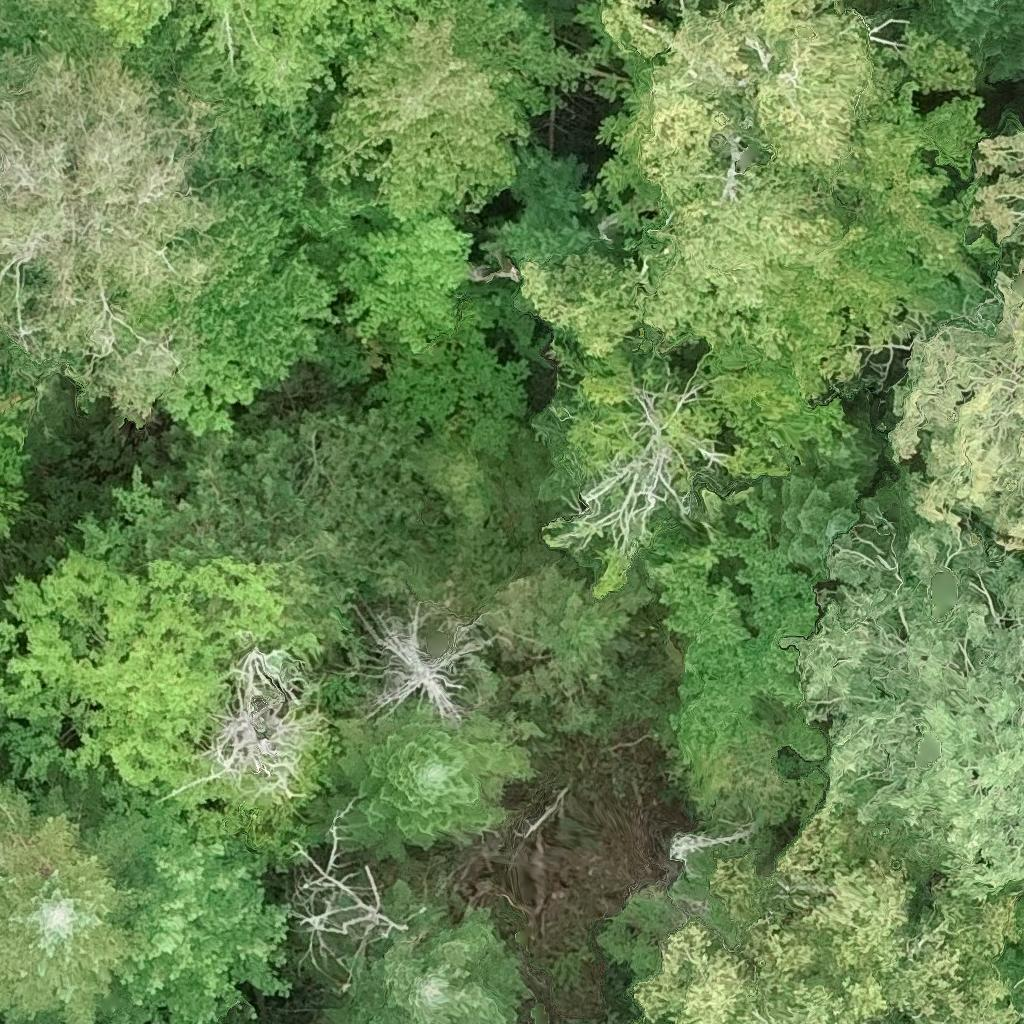crown: (523, 0, 976, 355), (0, 465, 350, 857), (693, 58, 1023, 471), (0, 0, 242, 423), (634, 790, 1023, 1023), (783, 525, 1023, 901), (277, 142, 532, 457), (130, 159, 377, 439), (123, 395, 425, 611), (648, 489, 838, 821), (318, 0, 606, 219), (90, 0, 419, 175), (80, 783, 292, 1023), (891, 273, 1023, 563), (294, 881, 534, 1023), (337, 687, 535, 858), (0, 778, 132, 1023), (479, 563, 652, 732), (563, 395, 680, 554), (213, 647, 309, 790), (781, 467, 885, 582), (372, 614, 484, 715), (892, 0, 1023, 82), (970, 135, 1023, 242), (0, 392, 30, 535), (104, 1012, 109, 1023), (1021, 259, 1023, 265)
